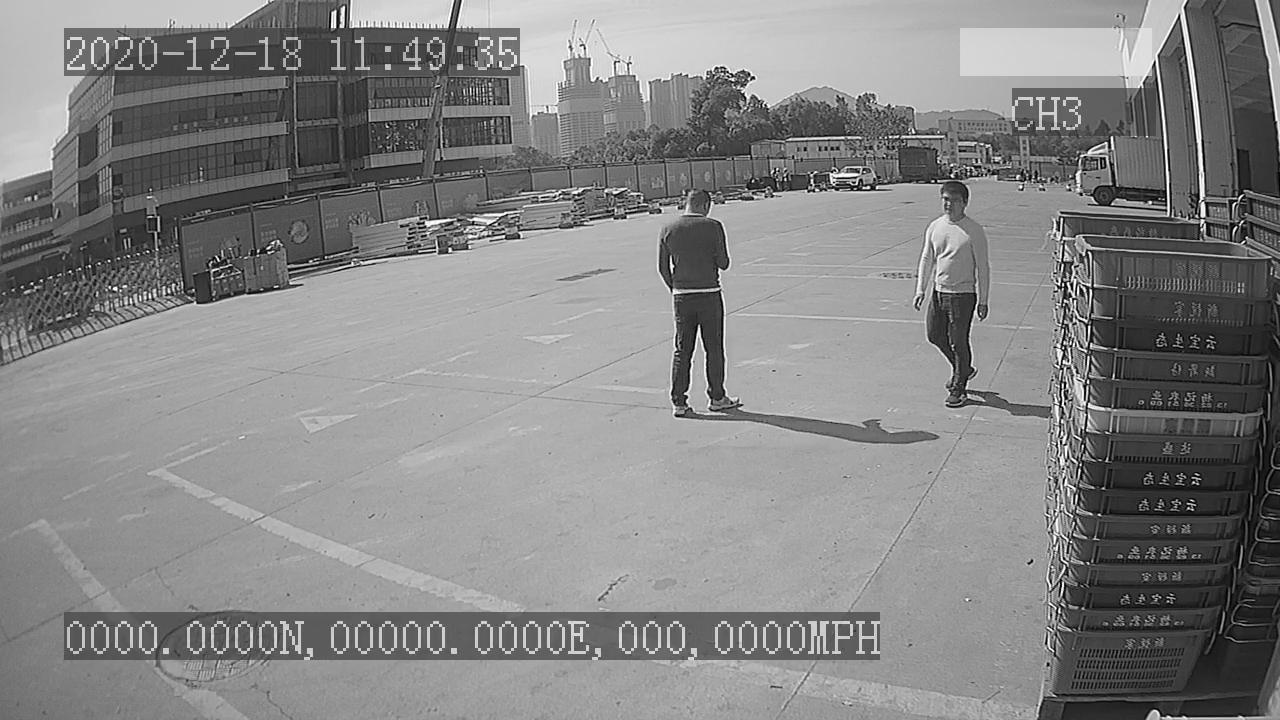person: (654, 185, 747, 422), (909, 179, 992, 411)
